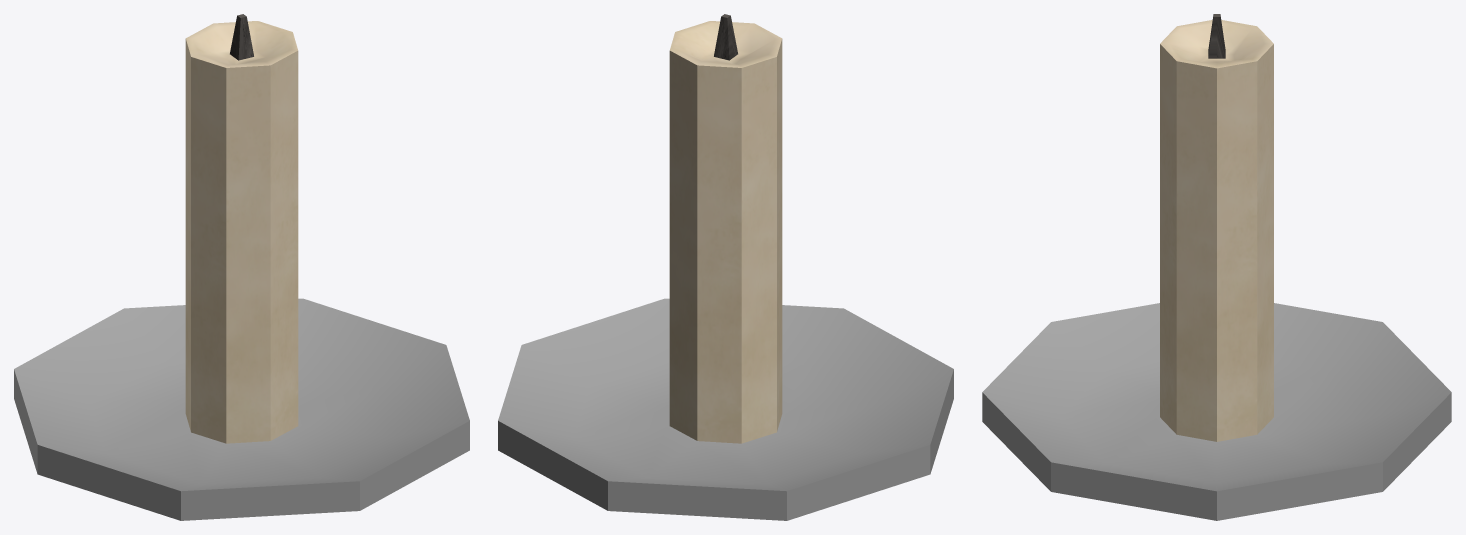
The model's file is candle.glb.
The picture shows the model from 3 angles, left to right: view 1: azimuth 30°, elevation 25°; view 2: azimuth 150°, elevation 25°; view 3: azimuth 270°, elevation 25°; orthographic projection.
Parts seen in each view (by area): view 1: pCylinder1 (×3); view 2: pCylinder1 (×3); view 3: pCylinder1 (×3).
Boxes of the visible parts, x1,y1,x2,y2 form: pCylinder1 (×3): [14, 14, 469, 520]; pCylinder1 (×3): [498, 14, 953, 520]; pCylinder1 (×3): [982, 14, 1451, 520].
Bounding box in the file's own units: 1.77 × 1.8 × 1.77.
3 materials, 3 textured.
